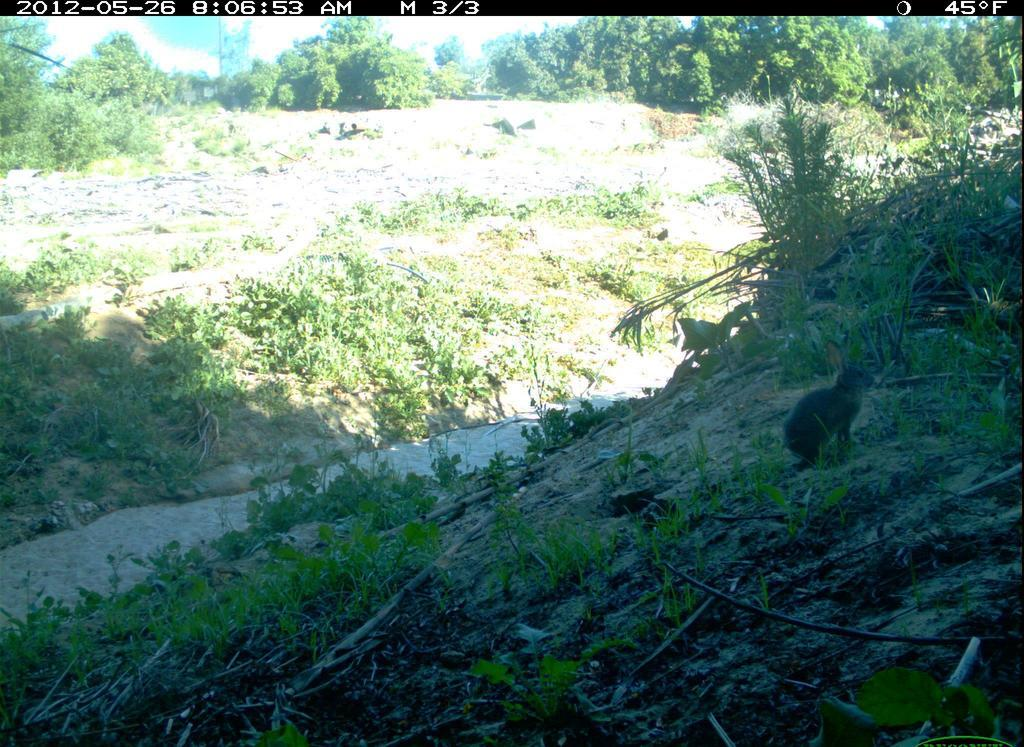rabbit: (776, 338, 880, 473)
